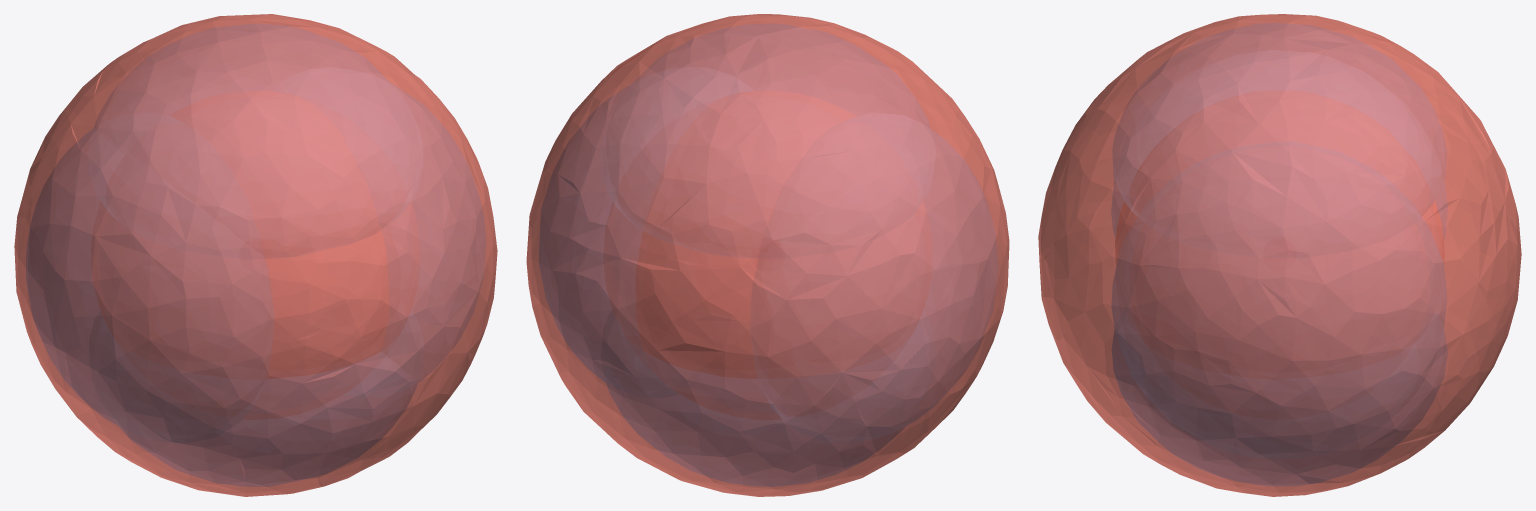
File: orbital.glb
The picture shows the model from 3 angles, left to right: view 1: azimuth 30°, elevation 25°; view 2: azimuth 150°, elevation 25°; view 3: azimuth 270°, elevation 25°; orthographic projection.
Parts seen in each view (by area): view 1: Si_n3_s_ml0_node, Si_n3_p_ml-1_node, Si_n3_p_ml1_node, Si_n2_s_ml0_node; view 2: Si_n3_s_ml0_node, Si_n3_p_ml-1_node, Si_n3_p_ml1_node, Si_n2_s_ml0_node; view 3: Si_n3_s_ml0_node, Si_n3_p_ml-1_node, Si_n3_p_ml1_node, Si_n2_s_ml0_node.
Boxes of the visible parts, x1,y1,x2,y2 form: Si_n3_s_ml0_node: (14, 14, 497, 496); Si_n3_p_ml-1_node: (94, 24, 418, 486); Si_n3_p_ml1_node: (26, 84, 485, 440); Si_n2_s_ml0_node: (265, 231, 388, 378); Si_n3_s_ml0_node: (526, 14, 1009, 496); Si_n3_p_ml-1_node: (606, 24, 929, 486); Si_n3_p_ml1_node: (539, 86, 997, 439); Si_n2_s_ml0_node: (635, 231, 757, 378); Si_n3_s_ml0_node: (1038, 14, 1521, 496); Si_n3_p_ml-1_node: (1112, 23, 1447, 485); Si_n3_p_ml1_node: (1111, 180, 1447, 458); Si_n2_s_ml0_node: (1115, 202, 1444, 265).
Bounding box in the file's own units: 1.57 × 1.57 × 1.57.
